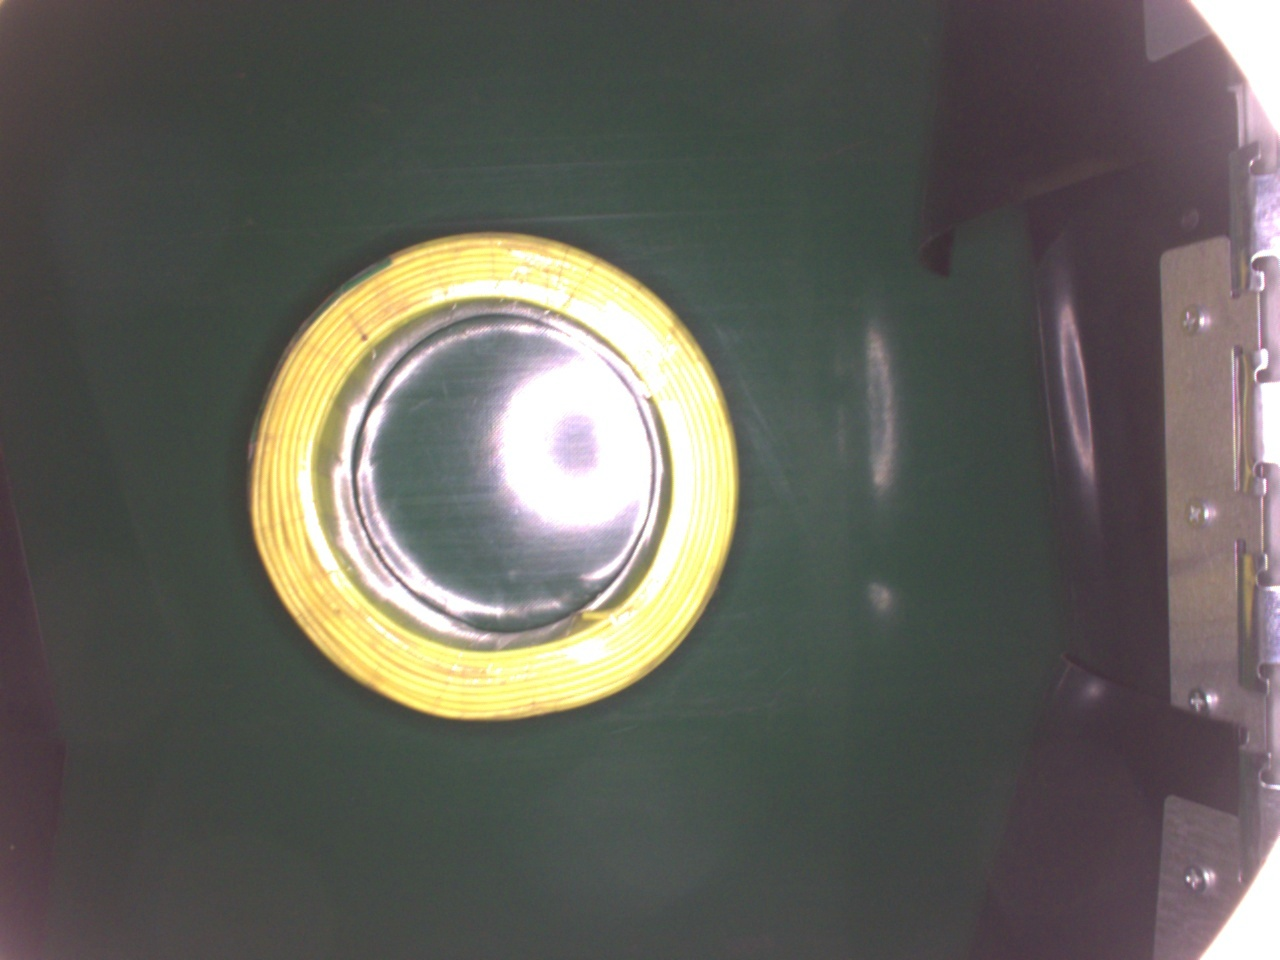yellow: (249, 224, 747, 721)
